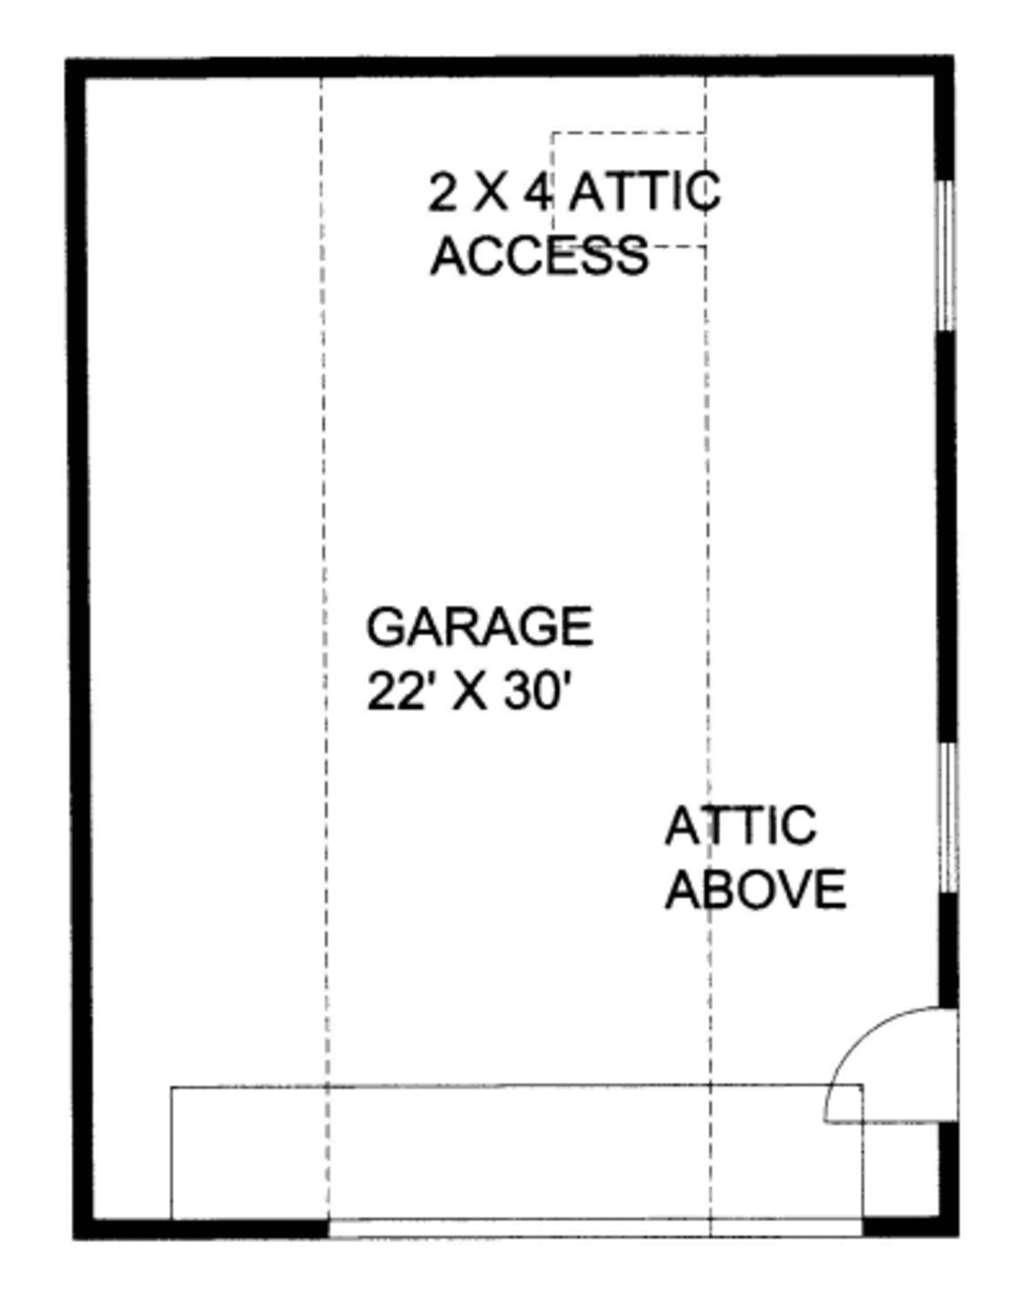door: (775, 1001, 981, 1158)
window: (922, 742, 977, 899), (922, 173, 965, 346)
